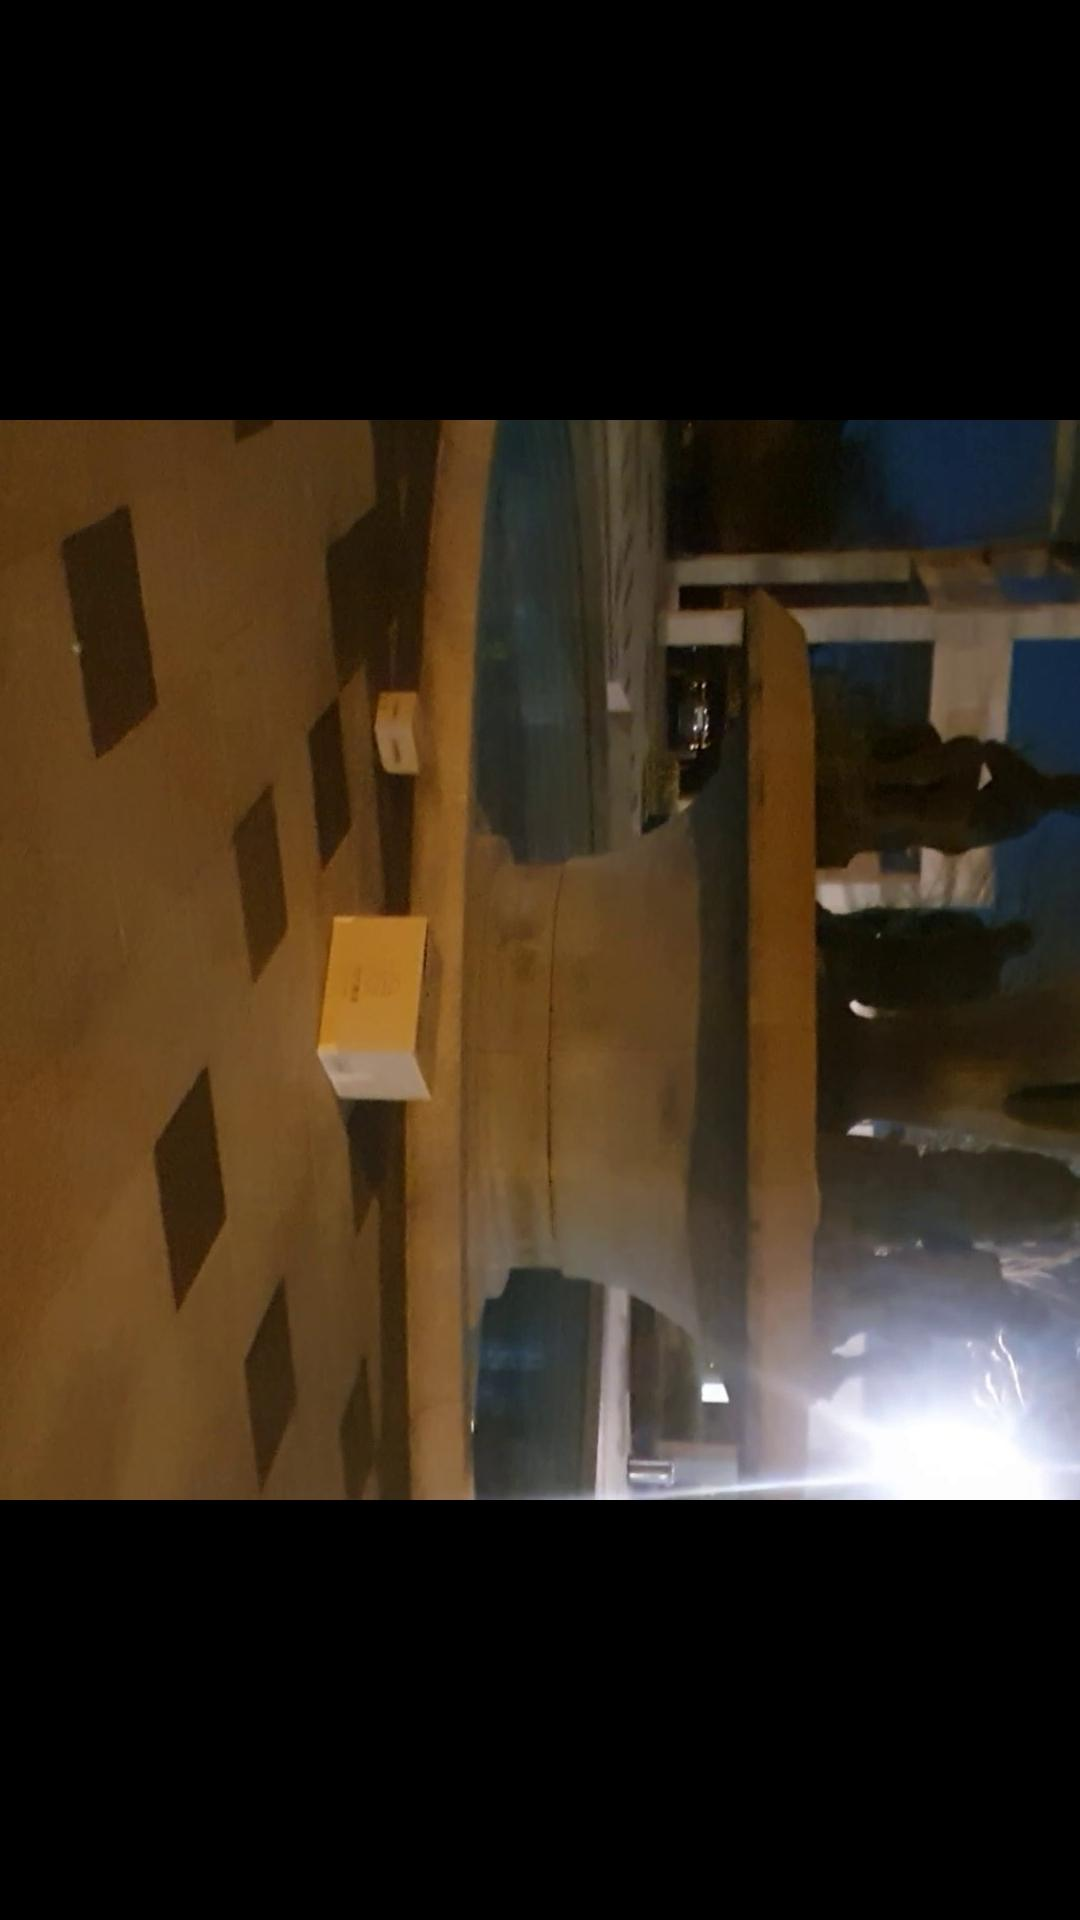Box: (301, 911, 458, 1102), (365, 673, 447, 796)
